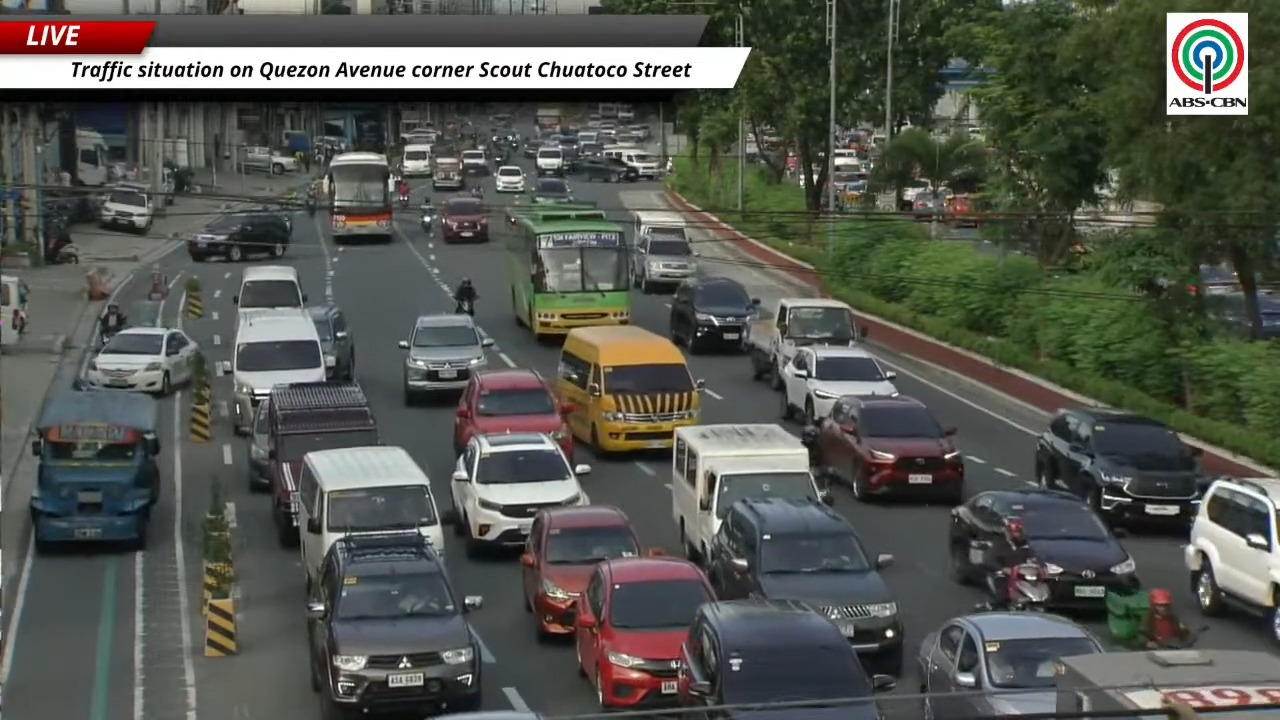bus: (508, 217, 629, 339), (325, 152, 393, 243), (507, 204, 606, 223), (535, 107, 563, 132)
car: (707, 497, 903, 675), (307, 531, 482, 717), (679, 599, 894, 719), (948, 488, 1138, 610), (573, 557, 714, 710), (1034, 408, 1209, 523), (916, 612, 1103, 718), (448, 433, 590, 557), (804, 395, 964, 504), (520, 505, 639, 638), (1184, 478, 1279, 643), (453, 369, 573, 460), (782, 346, 897, 424), (399, 313, 494, 404), (84, 327, 199, 395), (669, 278, 758, 353), (187, 212, 290, 261), (631, 227, 699, 293), (307, 303, 354, 381), (99, 188, 153, 233), (440, 196, 489, 243), (247, 397, 270, 490), (238, 146, 299, 175), (580, 156, 637, 182), (237, 205, 291, 232), (529, 177, 572, 204), (430, 710, 546, 719), (534, 143, 564, 176), (495, 165, 524, 192), (460, 149, 489, 175), (578, 140, 602, 166), (522, 138, 542, 158)
motorcycle: (987, 563, 1049, 611), (46, 242, 80, 263), (420, 205, 437, 234), (455, 299, 473, 316), (304, 195, 317, 215), (470, 185, 483, 198), (399, 193, 410, 207)
truck: (670, 424, 832, 560), (266, 382, 379, 546), (1053, 649, 1279, 719), (742, 297, 867, 390), (73, 127, 110, 186), (431, 152, 464, 190)
